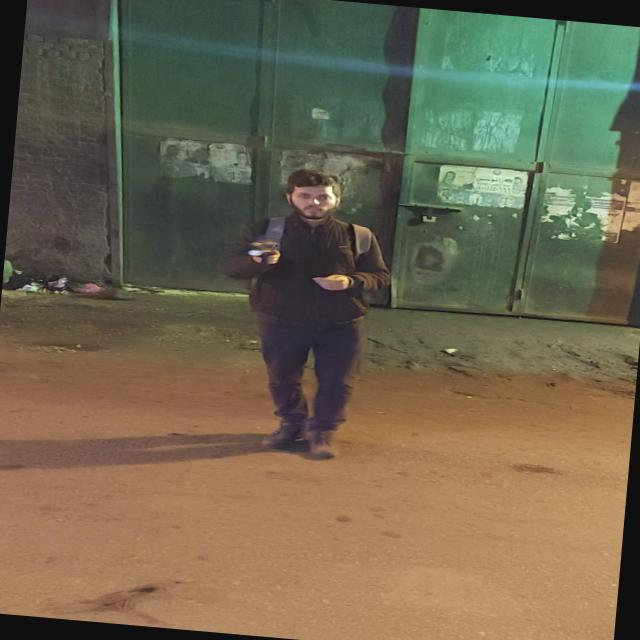long weapon: (220, 222, 297, 282)
